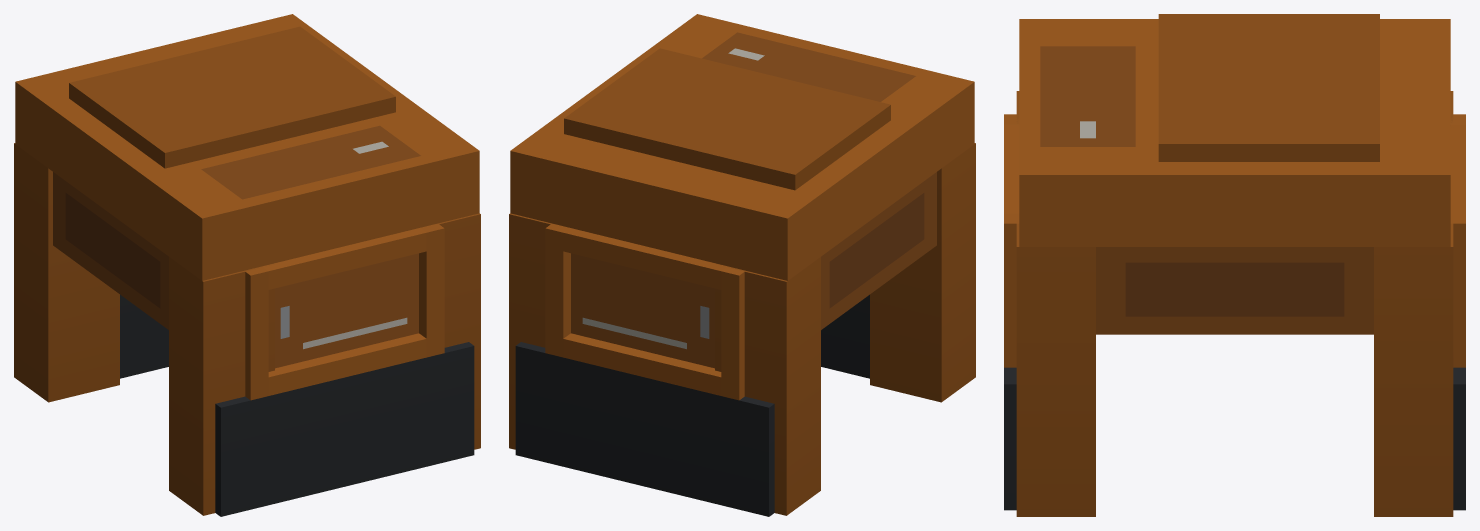
Rendered from machine.window.orange.glb.
3 renders of one model, left to right at view 1: azimuth 30°, elevation 25°; view 2: azimuth 150°, elevation 25°; view 3: azimuth 270°, elevation 25°, orthographic. The views are drawn at different scales.
Parts seen in each view (by area): view 1: machine_window_orange; view 2: machine_window_orange; view 3: machine_window_orange.
Boxes of the visible parts, box(x1,y1,x2,y2) form: machine_window_orange: box(14, 14, 480, 516); machine_window_orange: box(509, 14, 975, 516); machine_window_orange: box(1004, 14, 1465, 516).
Size of what is drawn, in the model's own units: 1.86 by 2 by 2.33.
